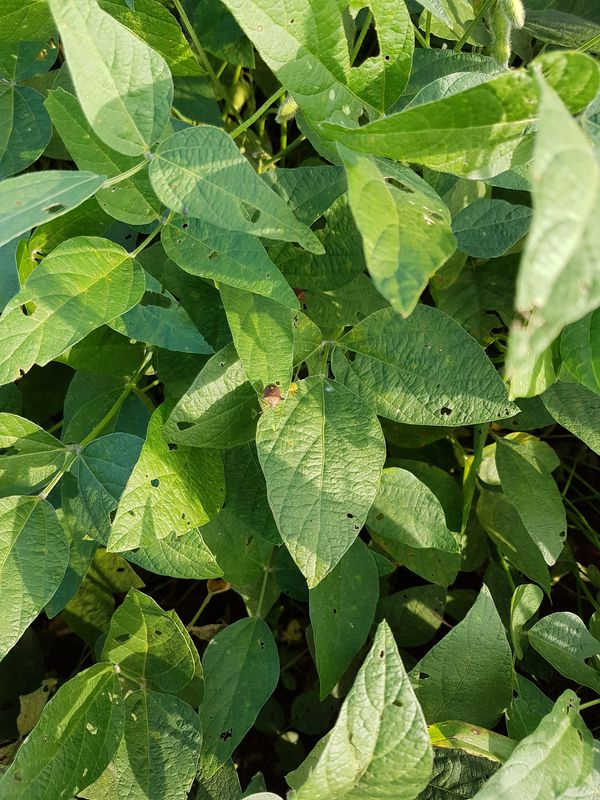Euschistus_heros_adulto: (254, 379, 287, 414)
Euschistus_heros_ninfa: (287, 378, 302, 396)
